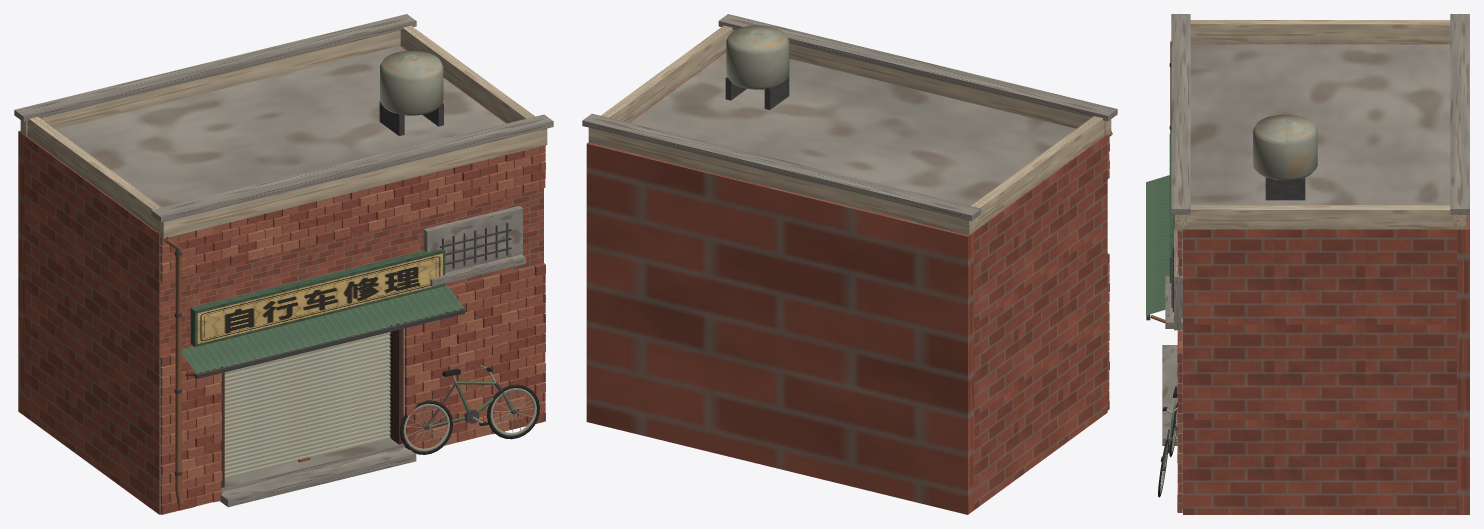
File: scene-repair.glb
The picture shows the model from 3 angles, left to right: view 1: azimuth 30°, elevation 25°; view 2: azimuth 150°, elevation 25°; view 3: azimuth 270°, elevation 25°; orthographic projection. The views are drawn at different scales.
Parts seen in each view (by area): view 1: scene-repair; view 2: scene-repair; view 3: scene-repair.
Boxes of the visible parts, x1,y1,x2,y2 form: scene-repair: [14, 14, 553, 514]; scene-repair: [582, 14, 1117, 514]; scene-repair: [1146, 14, 1469, 514].
Size of the model in its own units: 5.7 by 4.8 by 4.
3 materials, 3 textured.
